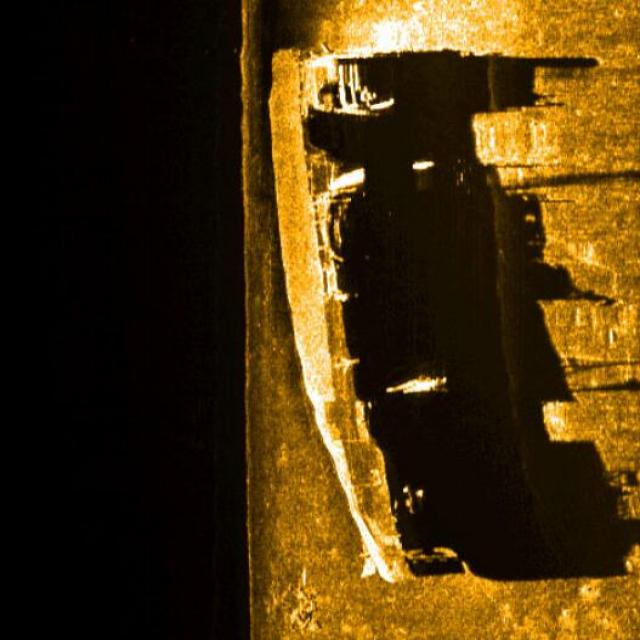ship: (255, 45, 474, 592)
